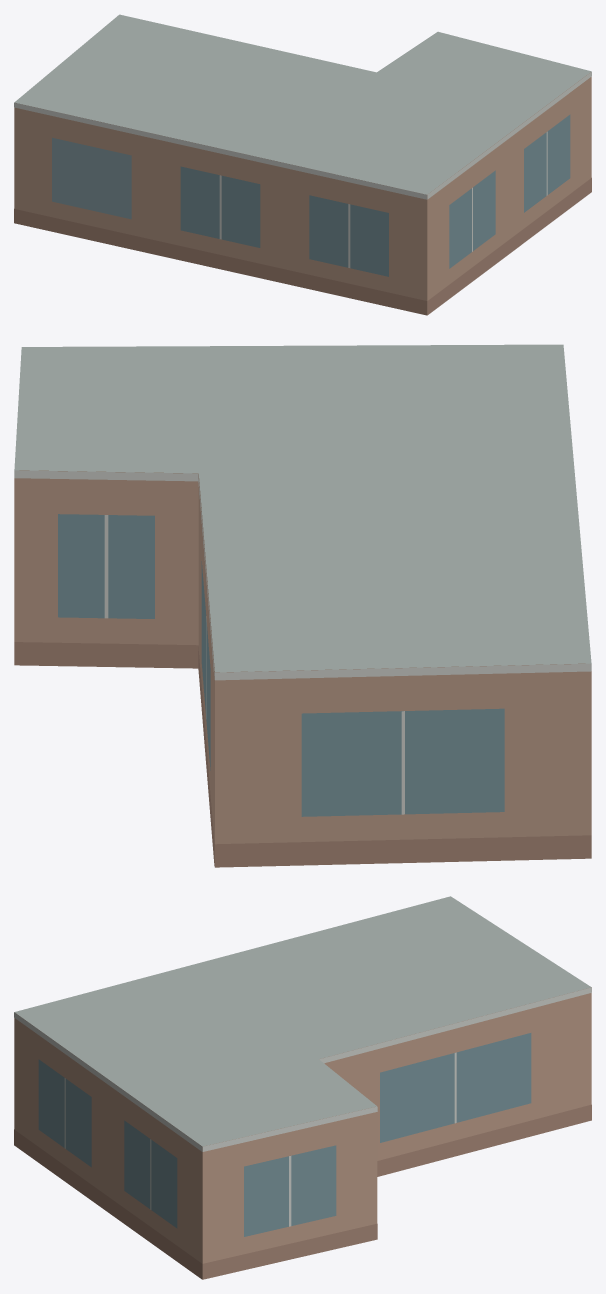
The model's file is survey-upis-32598620.glb.
3 renders of one model, top to bottom at view 1: azimuth 30°, elevation 25°; view 2: azimuth 150°, elevation 25°; view 3: azimuth 270°, elevation 25°, orthographic. The views are drawn at different scales.
Visible parts, largest first — view 1: survey-upis-32598620.tmp; view 2: survey-upis-32598620.tmp; view 3: survey-upis-32598620.tmp.
Part boxes in pixels (x1,y1,x2,y2): survey-upis-32598620.tmp: [14, 14, 591, 315]; survey-upis-32598620.tmp: [14, 344, 591, 867]; survey-upis-32598620.tmp: [14, 896, 591, 1279].
Size of the model in its own units: 12.32 by 3.05 by 12.01.
